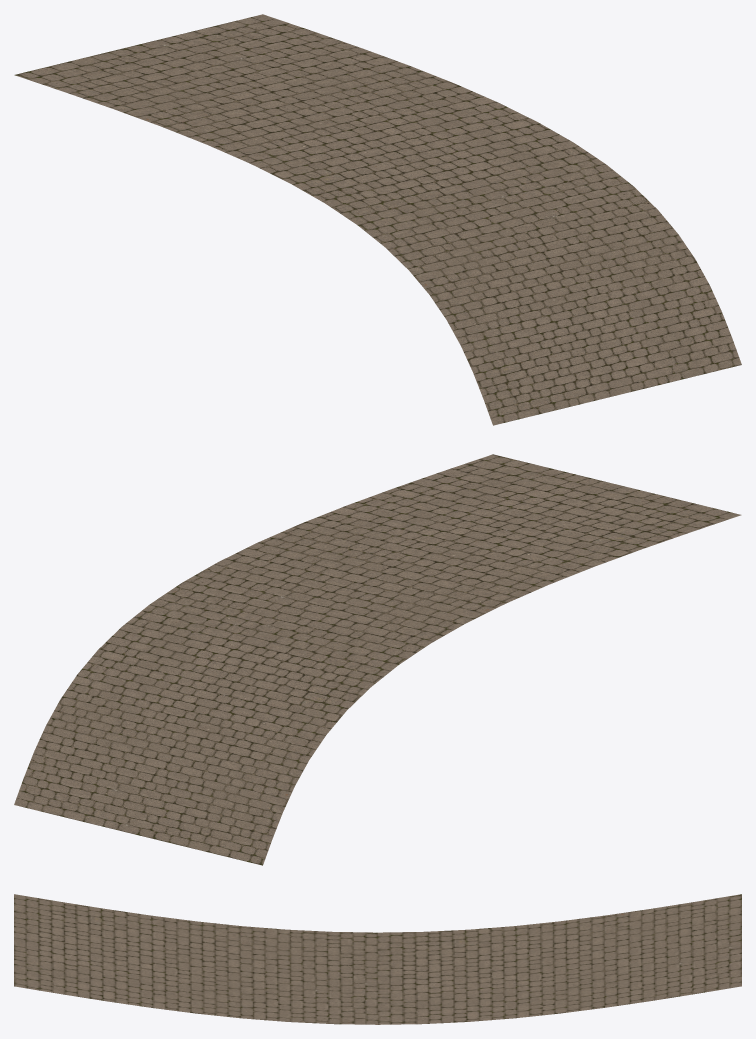
Rendered from Road_pavement_05_Curve.fbx.
3 renders of one model, top to bottom at view 1: azimuth 30°, elevation 25°; view 2: azimuth 150°, elevation 25°; view 3: azimuth 270°, elevation 25°, orthographic. The views are drawn at different scales.
Parts seen in each view (by area): view 1: Road_pavement_05_Curve; view 2: Road_pavement_05_Curve; view 3: Road_pavement_05_Curve.
Boxes of the visible parts, x1,y1,x2,y2 form: Road_pavement_05_Curve: (14,14,741,425); Road_pavement_05_Curve: (14,454,741,865); Road_pavement_05_Curve: (14,894,741,1024).
Bounding box in the file's own units: 1.7 × 6.52e-07 × 4.
Materials: 1 (1 with a texture image).
